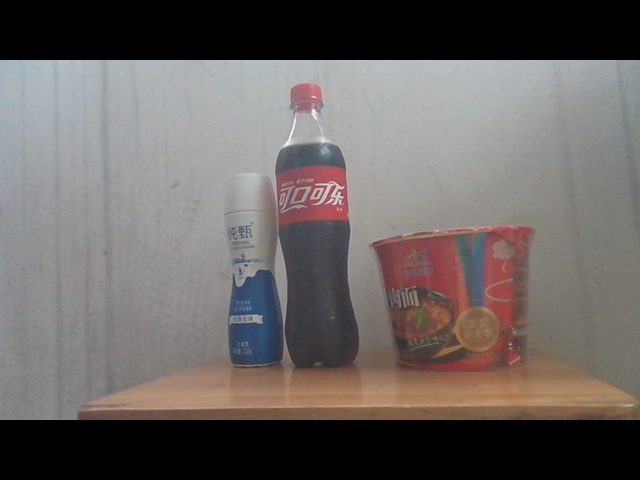cola: (276, 82, 361, 366)
kangshifu: (369, 225, 540, 375)
yogurt: (222, 172, 285, 369)
